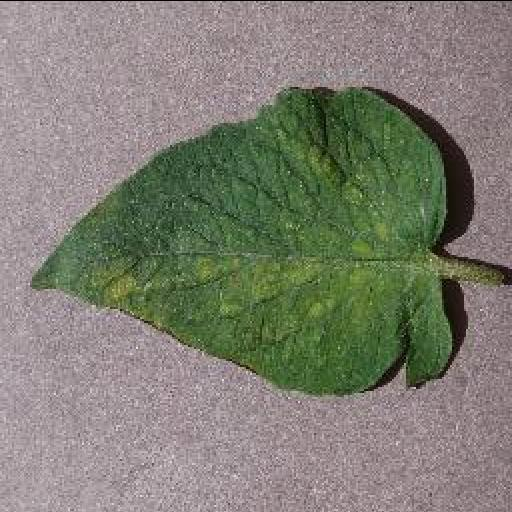disease_tomato: (28, 85, 452, 395)
